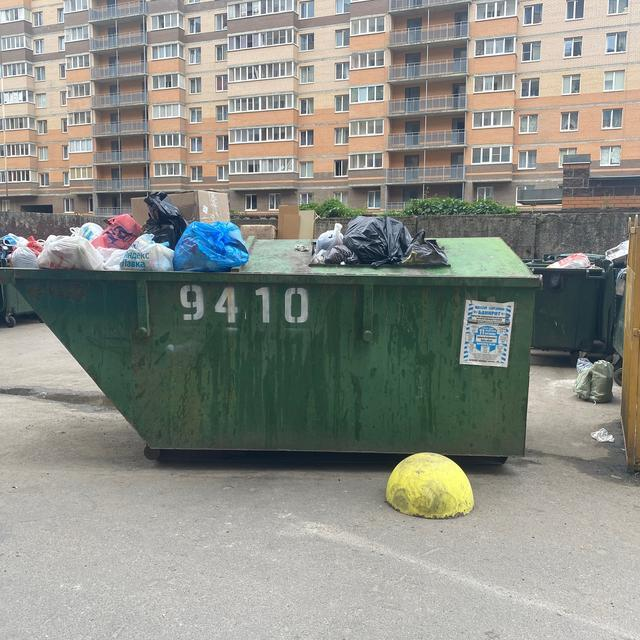Trash_Can_Full: (520, 254, 615, 353)
